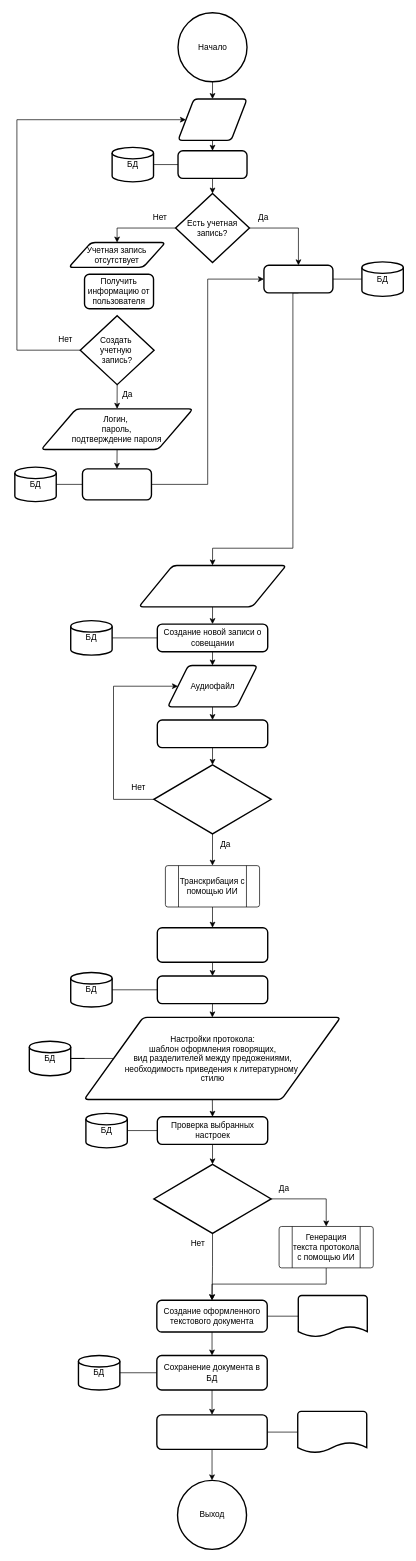
Some shapes in this 416 by 1561 pixel diagram are drawn without their labels. The shapes that lost their labels are listed below. From the top down, each one's centre as x and y in pixels, then its label:
At [212,119]: "Логин, пароль".
At [212,164]: "Поиск учетной записи".
At [298,278]: "Загрузка учетной записи".
At [116,484]: "Создание учетной записи".
At [212,585]: "Данные совещания: тема, дата, список участников".
At [212,733]: "Проверка расширения аудиофайла".
At [212,799]: "Аудиофайл соответствует допустимым расширениям?".
At [212,945]: "Создание текста с первым предложением каждого говорящего".
At [212,989]: "Прикрепление участников совещания к говорящим".
At [212,1198]: "Выбран литературный стиль?".
At [212,1432]: "Скачивание текстового документа в выбранное место".
